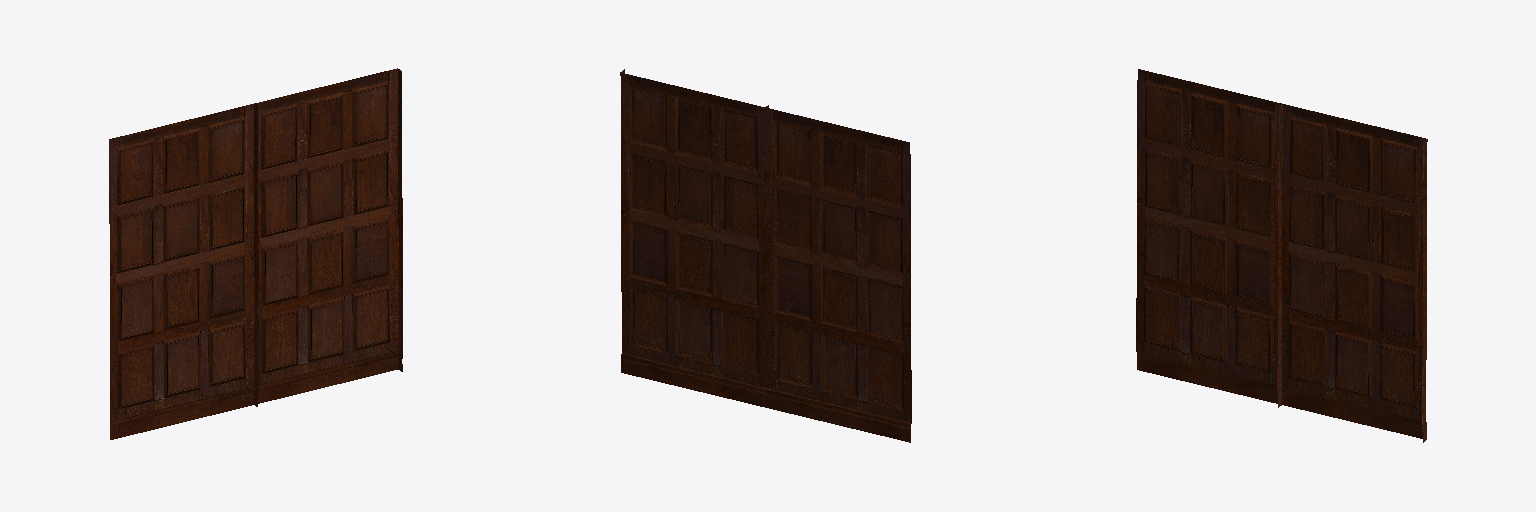
3 views of the same model, side by side, from view 1: azimuth 30°, elevation 25°; view 2: azimuth 150°, elevation 25°; view 3: azimuth 330°, elevation 25° (orthographic).
Size of the model in its own units: 2.35 by 2.34 by 0.0812.
1 materials, 1 textured.